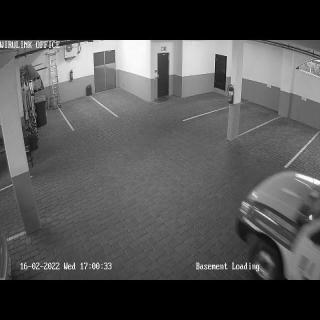car: (235, 171, 320, 280)
